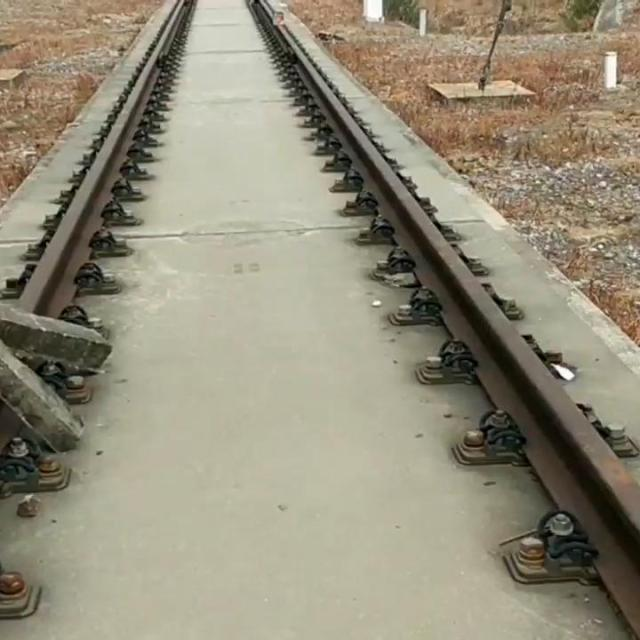danger: (0, 299, 115, 472)
rail: (250, 1, 640, 622)
